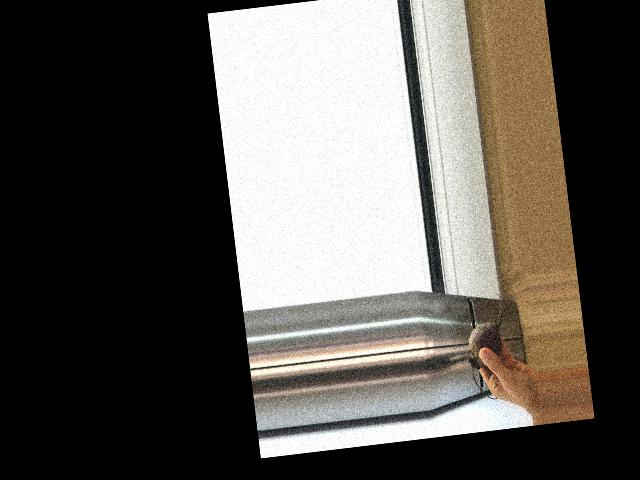beet: (461, 290, 513, 401)
